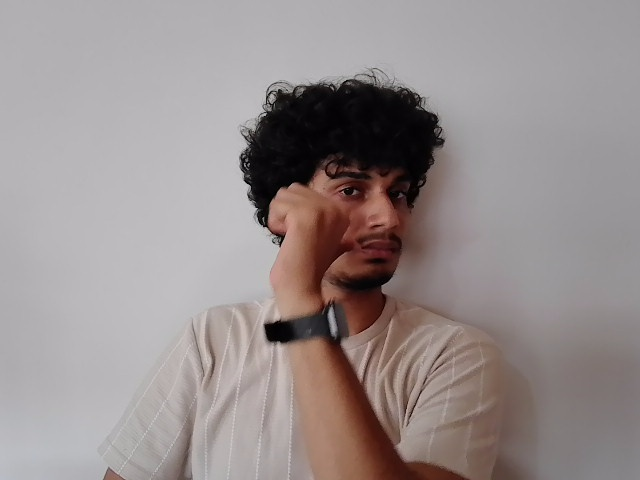drink: (266, 151, 416, 288)
